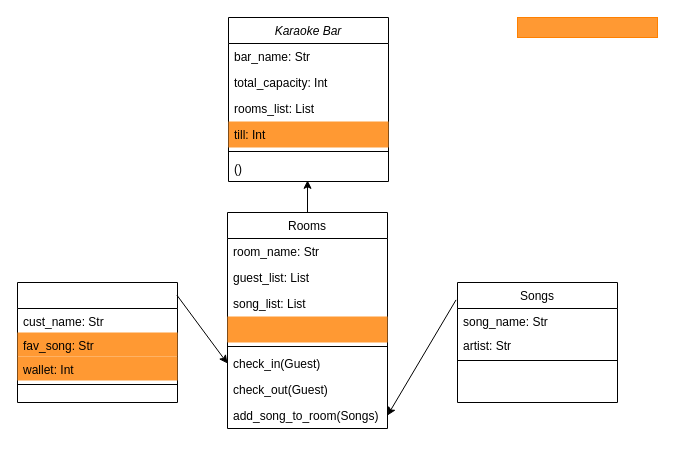
This 675x449 diagram has some shape labels left out. Each missing label, with the box of its shape:
capacity: Int: (227, 316, 387, 342)
Extentions: (516, 16, 658, 38)
Guests: (16, 282, 178, 402)
